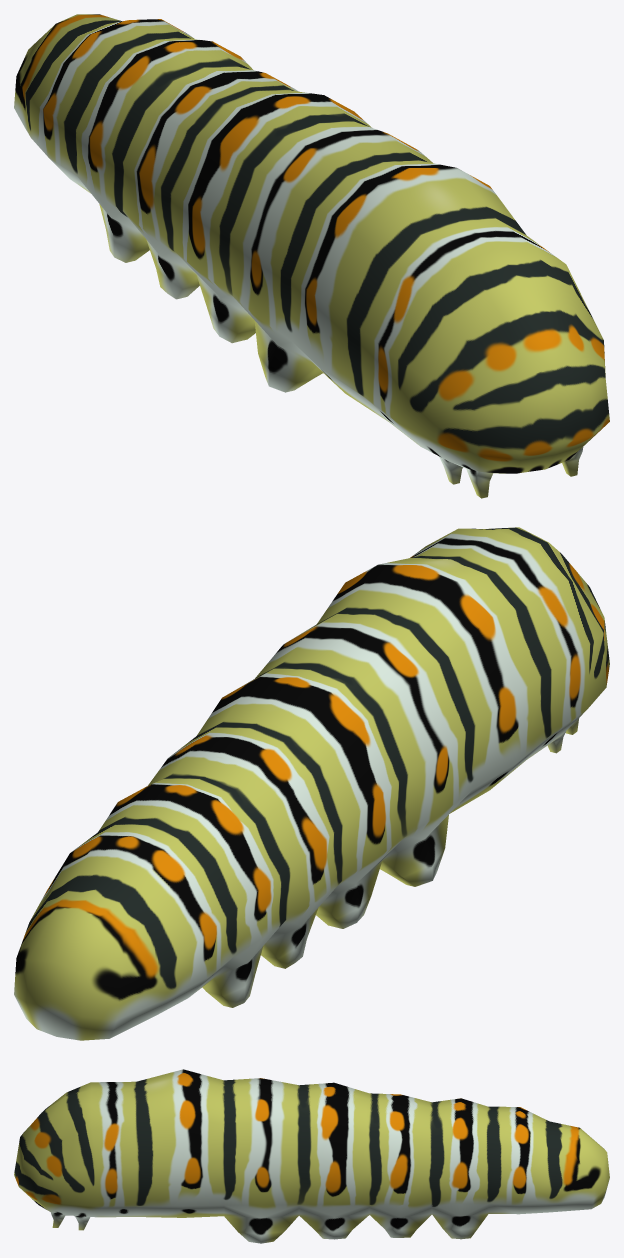
File: Larva.FBX
3 renders of one model, top to bottom at view 1: azimuth 30°, elevation 25°; view 2: azimuth 150°, elevation 25°; view 3: azimuth 270°, elevation 25°, orthographic. The views are drawn at different scales.
Visible parts, largest first — view 1: default; view 2: default; view 3: default.
Part boxes in pixels (bbox=[...]): default: bbox=[14, 14, 609, 498]; default: bbox=[14, 527, 609, 1040]; default: bbox=[14, 1069, 609, 1243].
Bounding box in the file's own units: 0.7987 × 0.9367 × 3.52.
